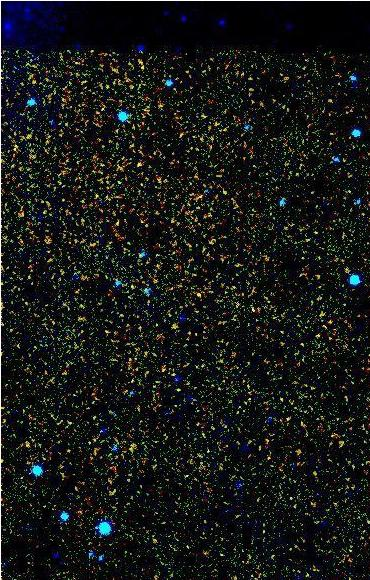star: (184, 278, 214, 308)
